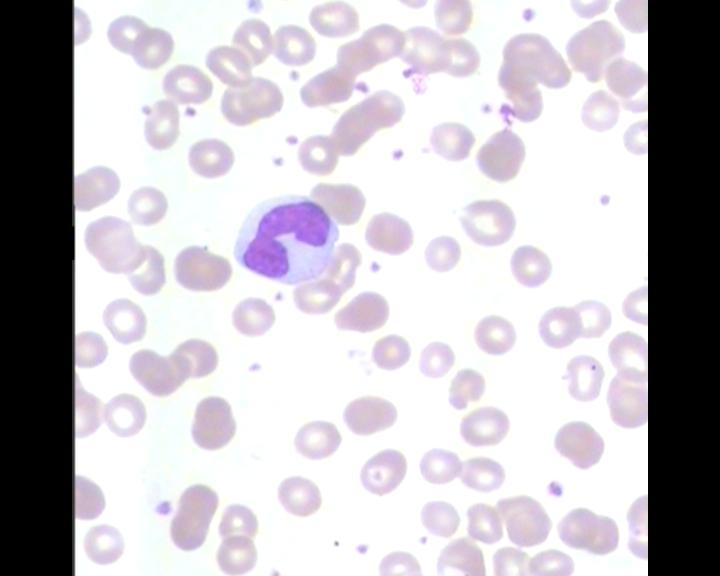mono: (227, 192, 340, 290)
